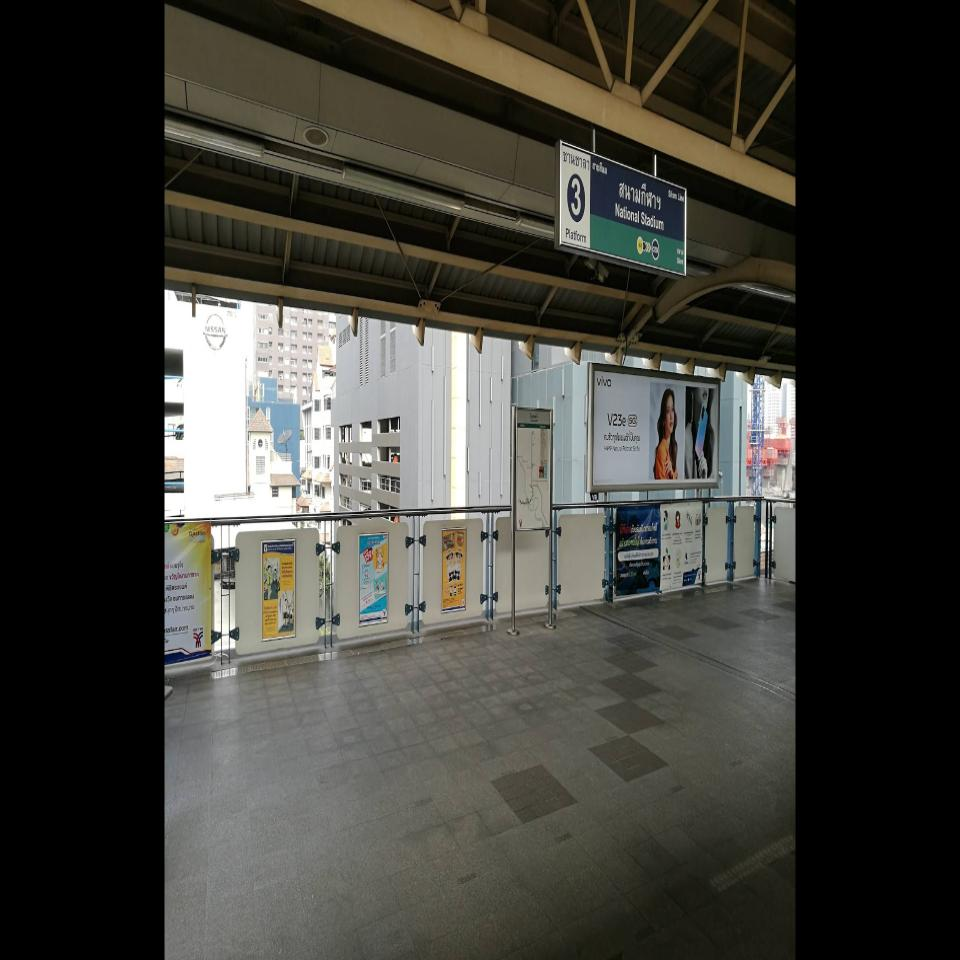signage: (616, 161, 664, 271)
